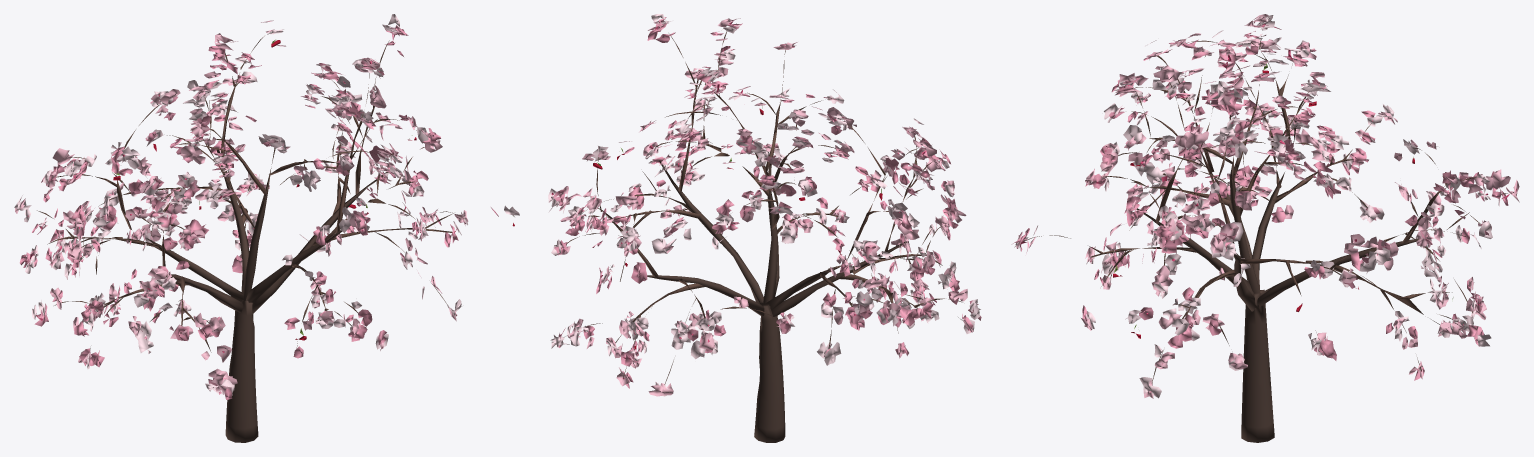
Rendered from 11_3_mid.glb.
3 views of the same model, side by side, from view 1: azimuth 30°, elevation 25°; view 2: azimuth 150°, elevation 25°; view 3: azimuth 270°, elevation 25° (orthographic). The views are drawn at different scales.
Visible parts, largest first — view 1: body; view 2: body; view 3: body.
Boxes of the visible parts, bbox=[...] form: body: bbox=[14, 14, 519, 442]; body: bbox=[548, 14, 981, 442]; body: bbox=[1011, 14, 1519, 442].
Size of the model in its own units: 4.69 by 4.15 by 4.52.
1 material, 1 textured.
